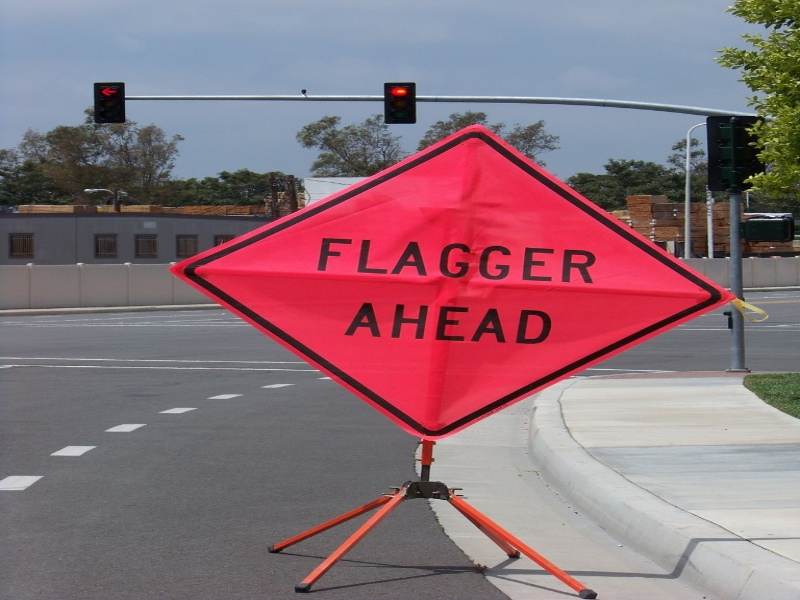flagger_ahead: (168, 122, 730, 426)
red_light: (384, 78, 421, 130)
